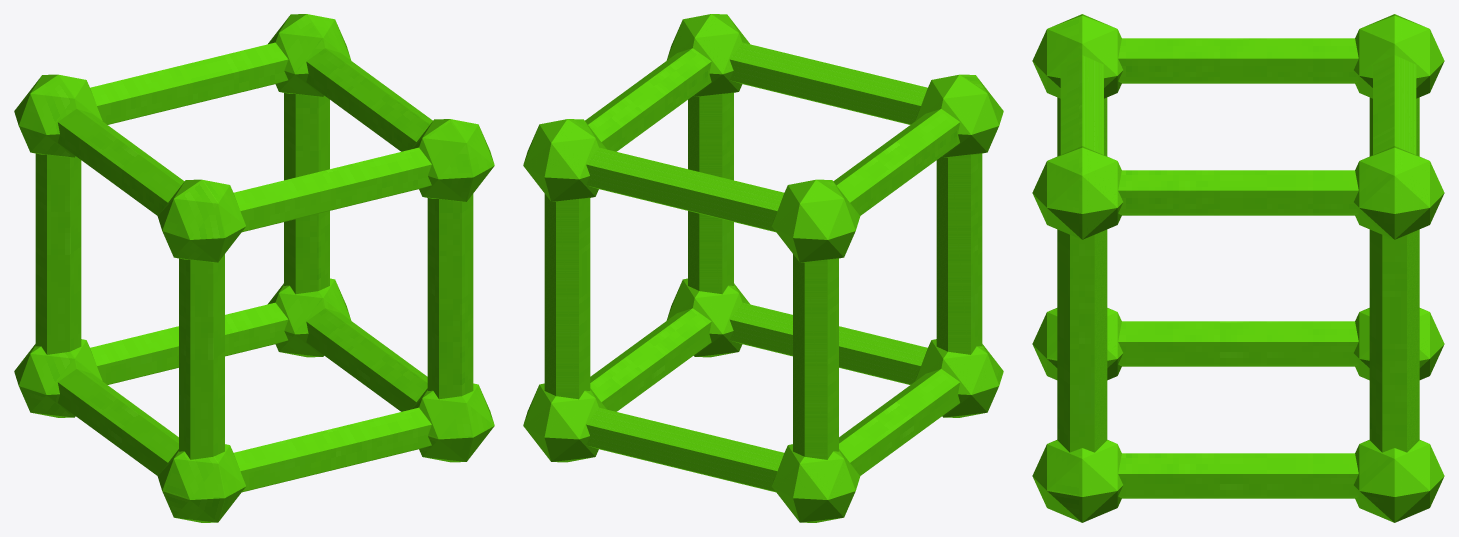
File: cube_cage.obj
3 views of the same model, side by side, from view 1: azimuth 30°, elevation 25°; view 2: azimuth 150°, elevation 25°; view 3: azimuth 270°, elevation 25° (orthographic). The views are drawn at different scales.
Parts seen in each view (by area): view 1: Box026; view 2: Box026; view 3: Box026.
Boxes of the visible parts, left/top/right/bottom form: Box026: left=14, top=14, right=494, bottom=522; Box026: left=523, top=14, right=1003, bottom=522; Box026: left=1032, top=14, right=1444, bottom=522.
Bounding box in the file's own units: 33 × 33 × 33.
Materials: 1 (1 with a texture image).
